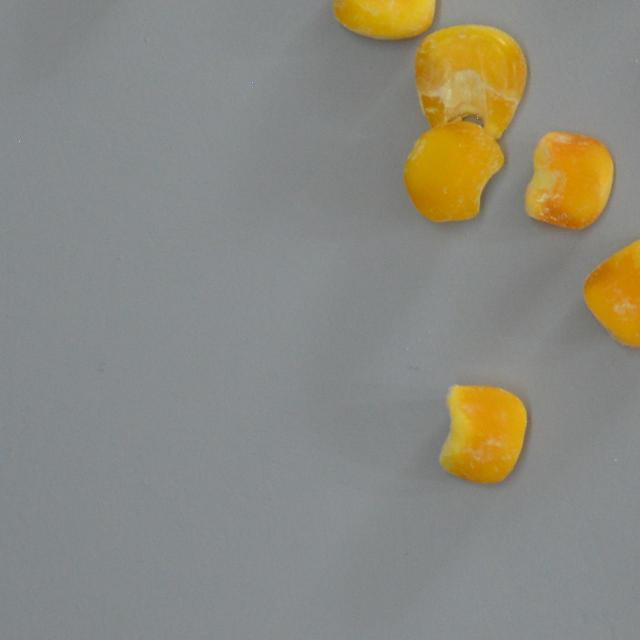dañado: (519, 128, 616, 230)
pelicula: (410, 22, 531, 141), (401, 119, 506, 226), (435, 380, 532, 488), (580, 226, 640, 354), (330, 0, 440, 42)
